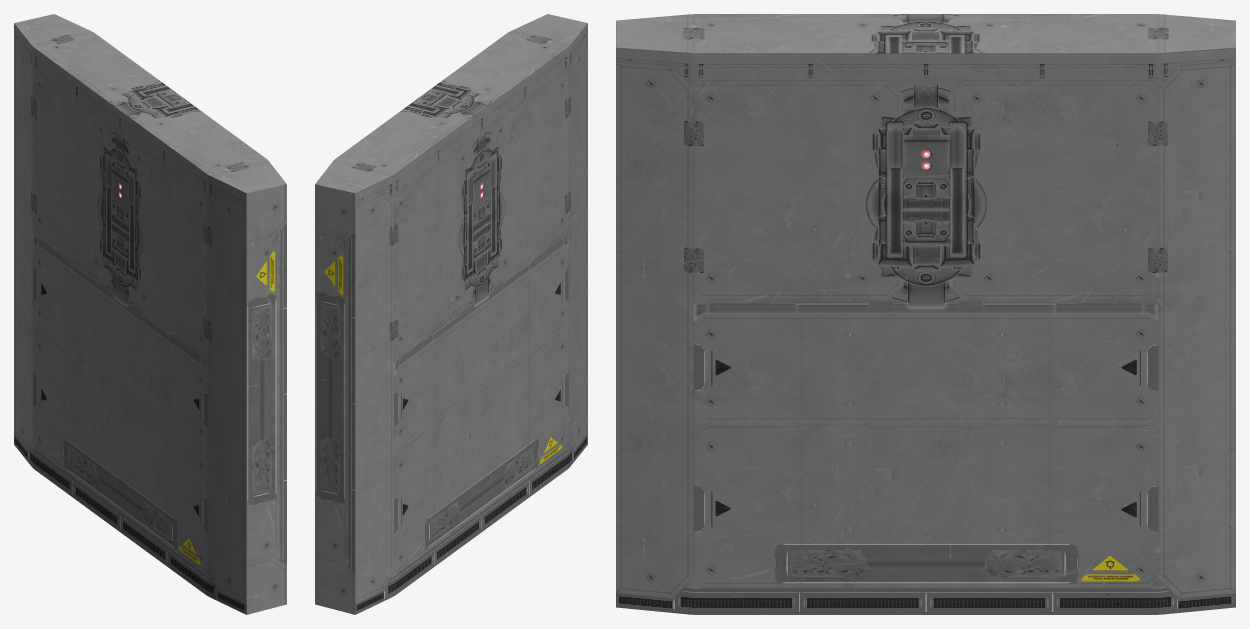
File: SM_WallType1b.fbx
The picture shows the model from 3 angles, left to right: view 1: azimuth 30°, elevation 25°; view 2: azimuth 150°, elevation 25°; view 3: azimuth 270°, elevation 25°; orthographic projection. The views are drawn at different scales.
Visible parts, largest first — view 1: SM_WallType1b_LOD0; view 2: SM_WallType1b_LOD0; view 3: SM_WallType1b_LOD0.
Boxes of the visible parts, left/top/right/bottom form: SM_WallType1b_LOD0: left=14, top=14, right=286, bottom=614; SM_WallType1b_LOD0: left=315, top=14, right=587, bottom=614; SM_WallType1b_LOD0: left=616, top=14, right=1235, bottom=614.
Bounding box in the file's own units: 60 × 400 × 400.
1 material, 1 textured.
